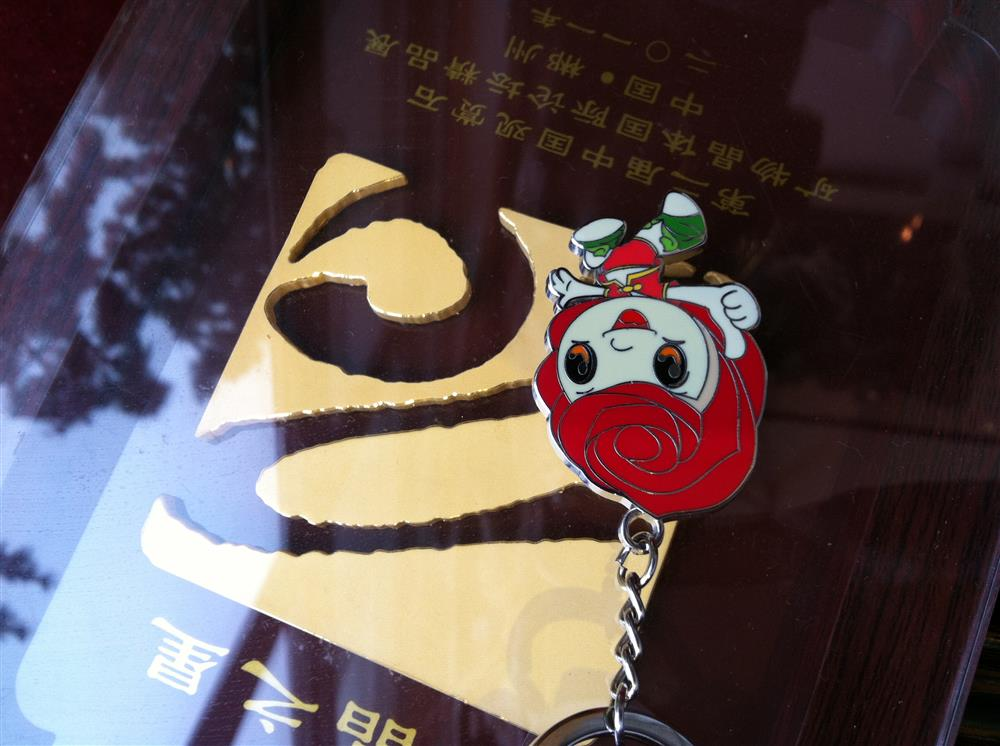garden_expo: (531, 188, 765, 515)
